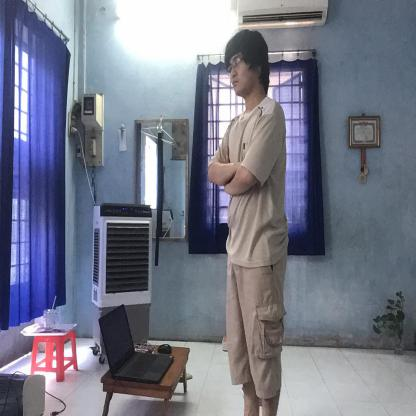person: (206, 28, 294, 412)
